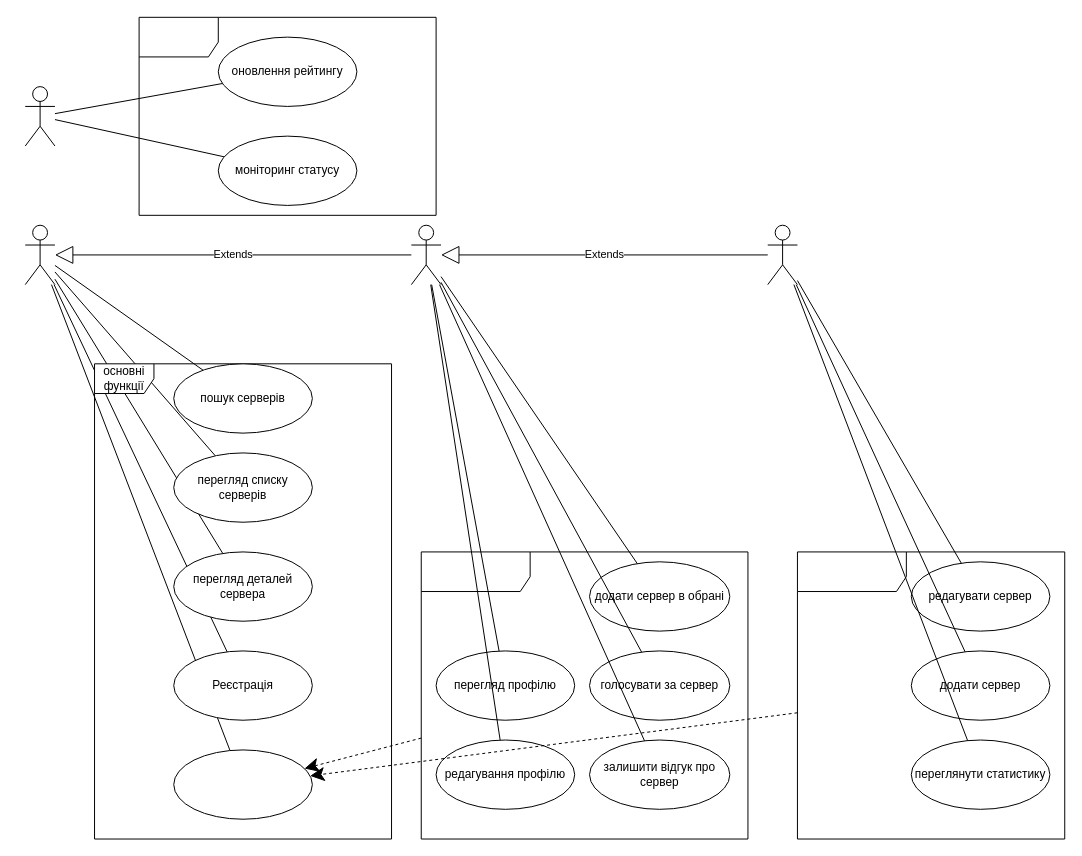
This 1082x856 diagram has some shape labels left out. Here are the shapes that lost their labels. From the top down, the box of each, then its label:
(24, 86, 55, 146): система
(138, 16, 436, 215): Системні процеси
(24, 224, 55, 285): гість
(410, 224, 441, 285): зареєстрований користувач
(767, 224, 797, 285): адміністратор серверу
(420, 551, 748, 839): функції зареєстрованого користувача
(796, 551, 1065, 839): керування сервером
(173, 749, 312, 819): вхід в акаунт
